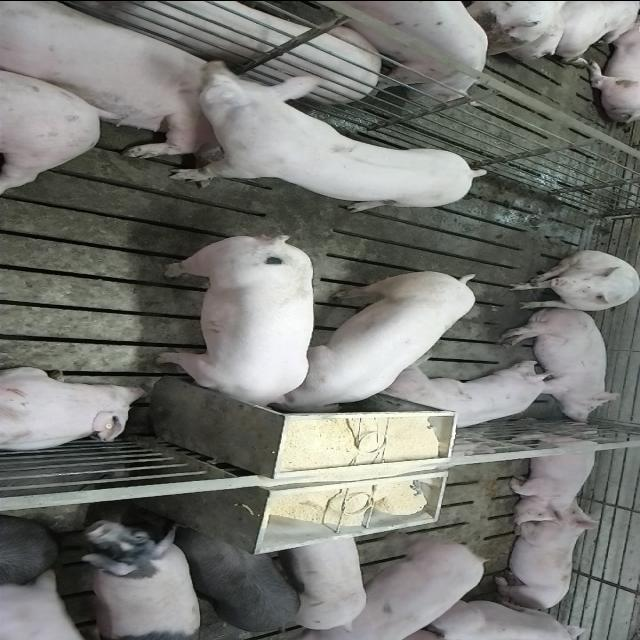Feeding: (272, 264, 479, 412), (155, 228, 317, 408)
Lateral_lying: (498, 306, 625, 424)
Sitting: (506, 250, 638, 312)
Standing: (157, 56, 483, 210), (300, 532, 490, 637), (294, 0, 484, 98), (72, 516, 202, 638), (169, 523, 303, 636), (284, 532, 366, 630), (2, 565, 105, 637)
Sternal_lying: (6, 0, 276, 152), (0, 365, 151, 453), (382, 363, 570, 433), (491, 509, 599, 612), (505, 424, 605, 522)
